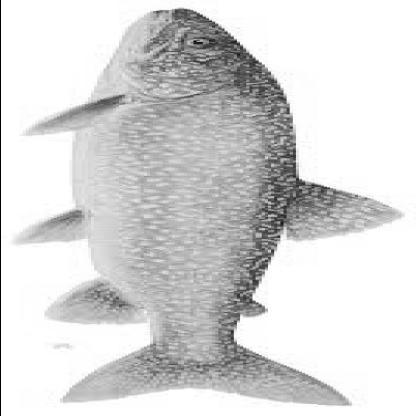fish: (9, 6, 402, 407)
